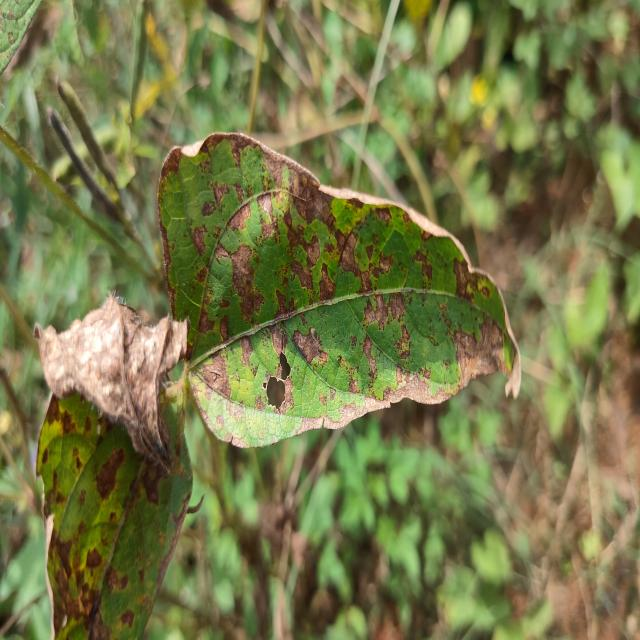Black gram_leaf spot: (158, 132, 522, 447), (34, 293, 192, 639)
